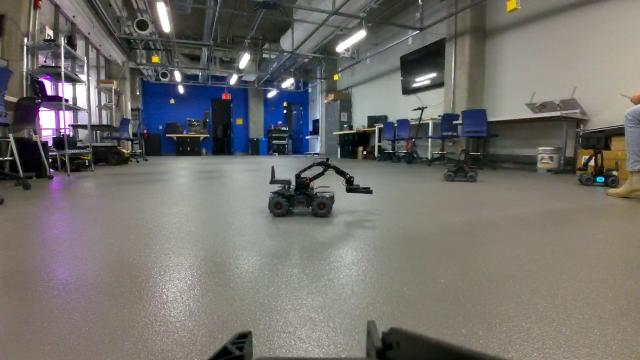robot: (264, 152, 376, 223)
